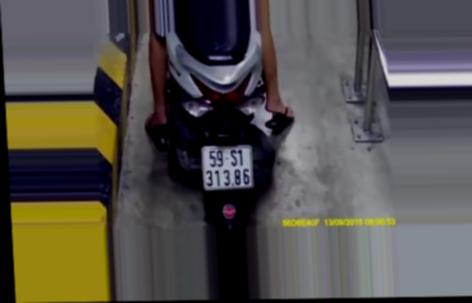License_Plate: (195, 140, 258, 195)
